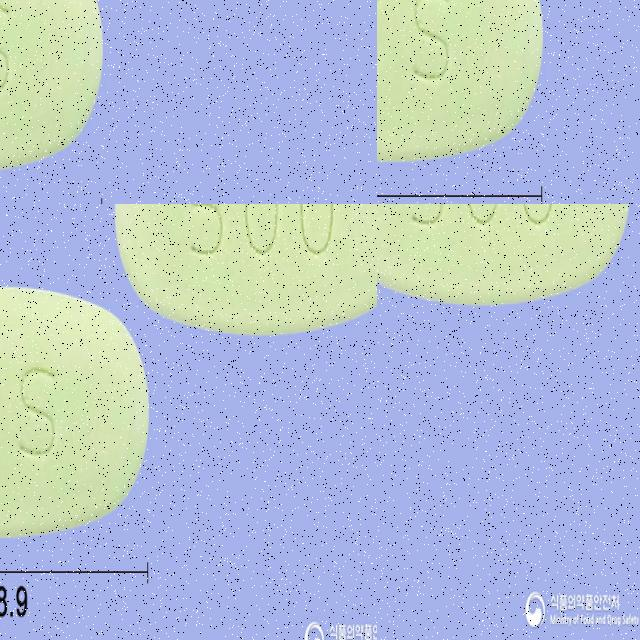Ilsung Clarithromycin: (377, 0, 535, 154)
Immuthera: (137, 204, 377, 542), (0, 204, 103, 537)
Sebivo Tab: (377, 204, 632, 302)
TaeJoon Levofloxacin Tab: (0, 0, 146, 172)
